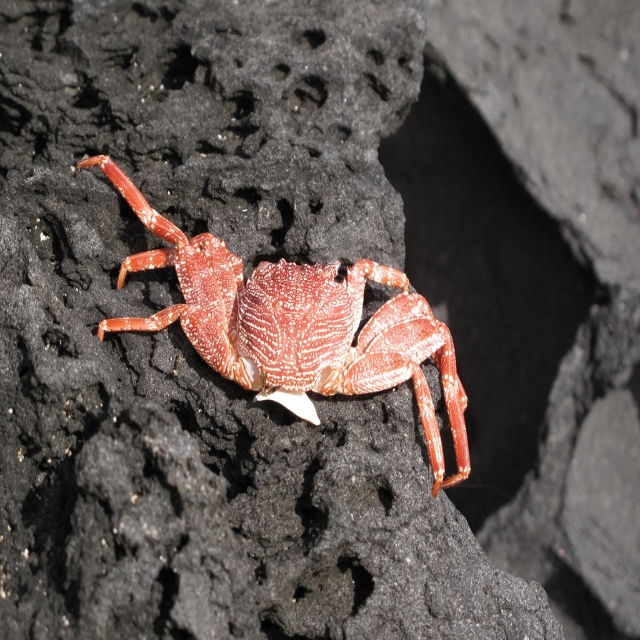Crab: (76, 146, 477, 492)
